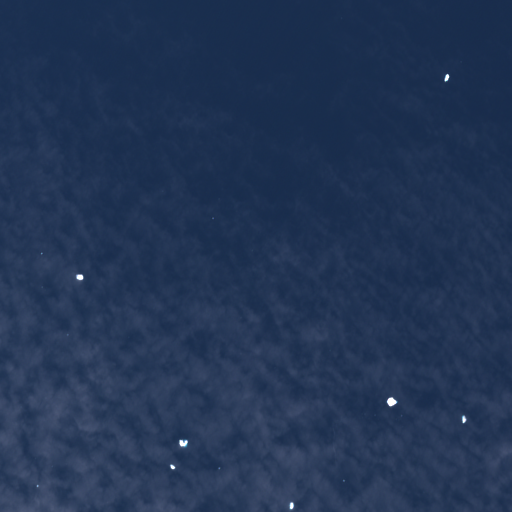Iceberg: (386, 397, 397, 407), (179, 439, 187, 446), (76, 274, 83, 280), (444, 73, 449, 81), (461, 415, 466, 423), (169, 464, 175, 469), (289, 502, 293, 509), (36, 484, 38, 487), (40, 252, 42, 254), (218, 467, 220, 469), (343, 479, 344, 481), (212, 217, 213, 218), (67, 334, 68, 335)
